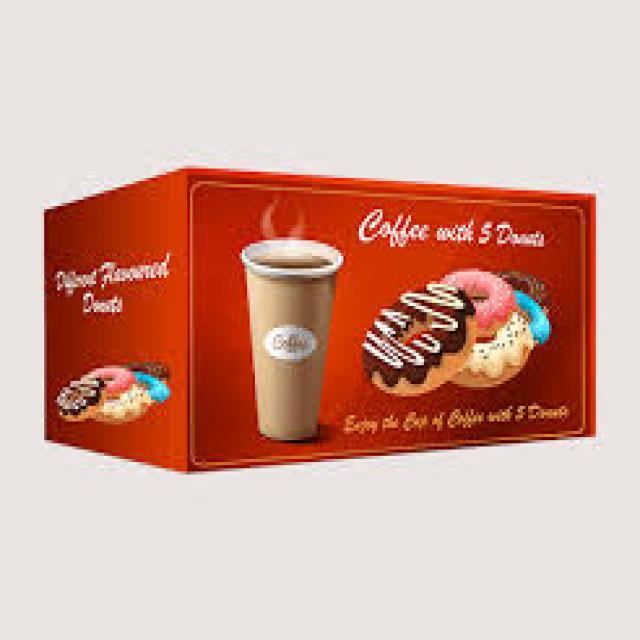Coffee: (44, 165, 598, 478)
